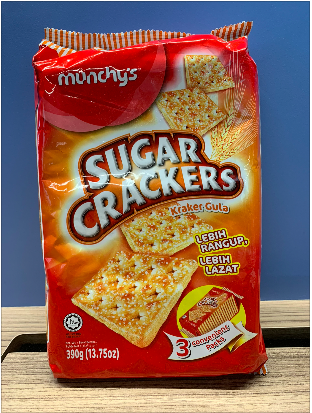Crackers_300-399g: (50, 71, 260, 366)
